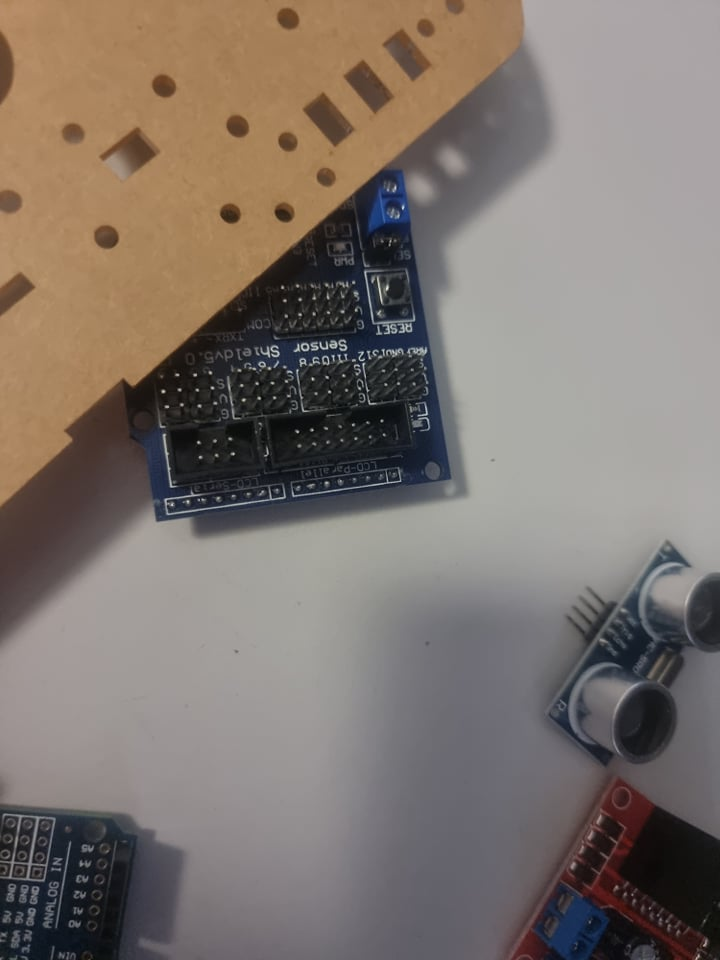5V EXPANSION: (112, 160, 468, 526)
MOTOR: (503, 783, 720, 960)
SENSOR: (547, 534, 720, 764)
